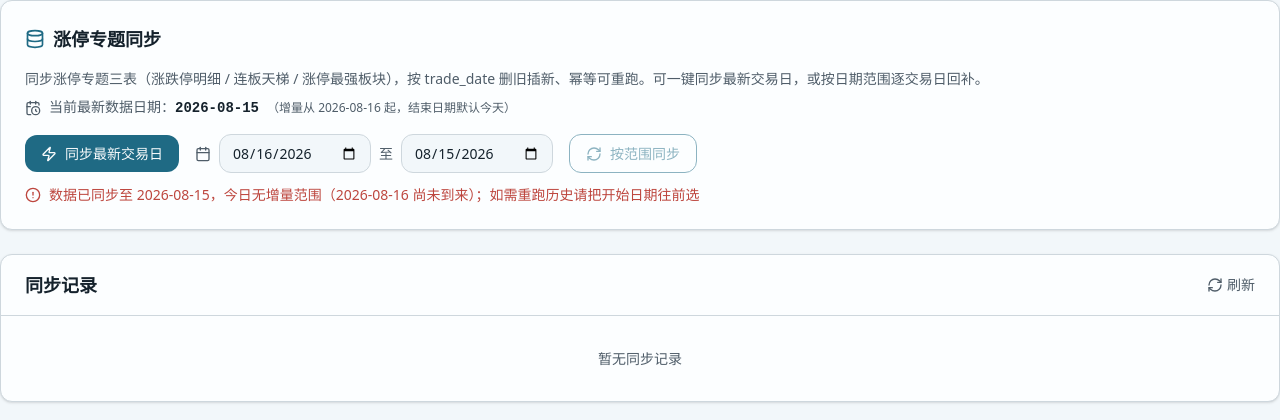
Test: LimitSyncPanel › 最新数据日期展示与默认预填 › 最新数据已到今天：提示今日无增量范围，往前选开始日期后恢复可用
Expected: the date field named "结束日期" holds "2026-08-15", [401,134,553,173]
Expected: the button with test id "limit-sync-start-button" is disabled, [569,134,697,173]
# 开始日期往前选到今天：范围合法，按钮恢复可用（重跑历史）
Step 1. Type "2026-08-15" into the date field named "开始日期" → [295, 154], box [219,134,371,173]
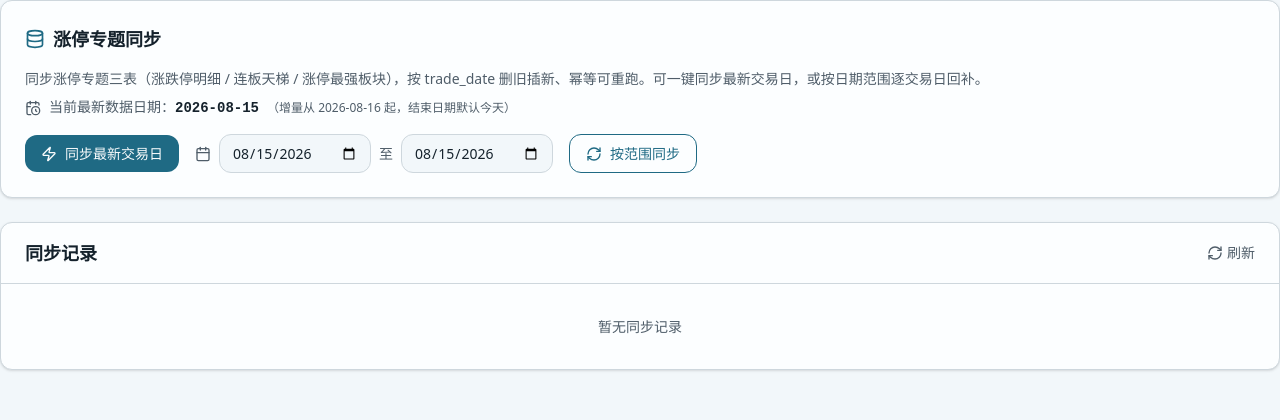
Result: the element with test id "limit-sync-validation-error" is gone
Result: the button with test id "limit-sync-start-button" is enabled at [569,134,697,173]
